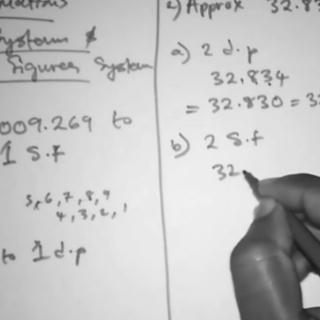.: (42, 124, 50, 132), (44, 151, 51, 158)
2: (203, 134, 219, 152), (219, 94, 234, 110)
3: (206, 93, 220, 113), (210, 71, 224, 87)
6: (66, 113, 82, 132)
8: (246, 66, 259, 85)
9: (81, 111, 95, 134)
